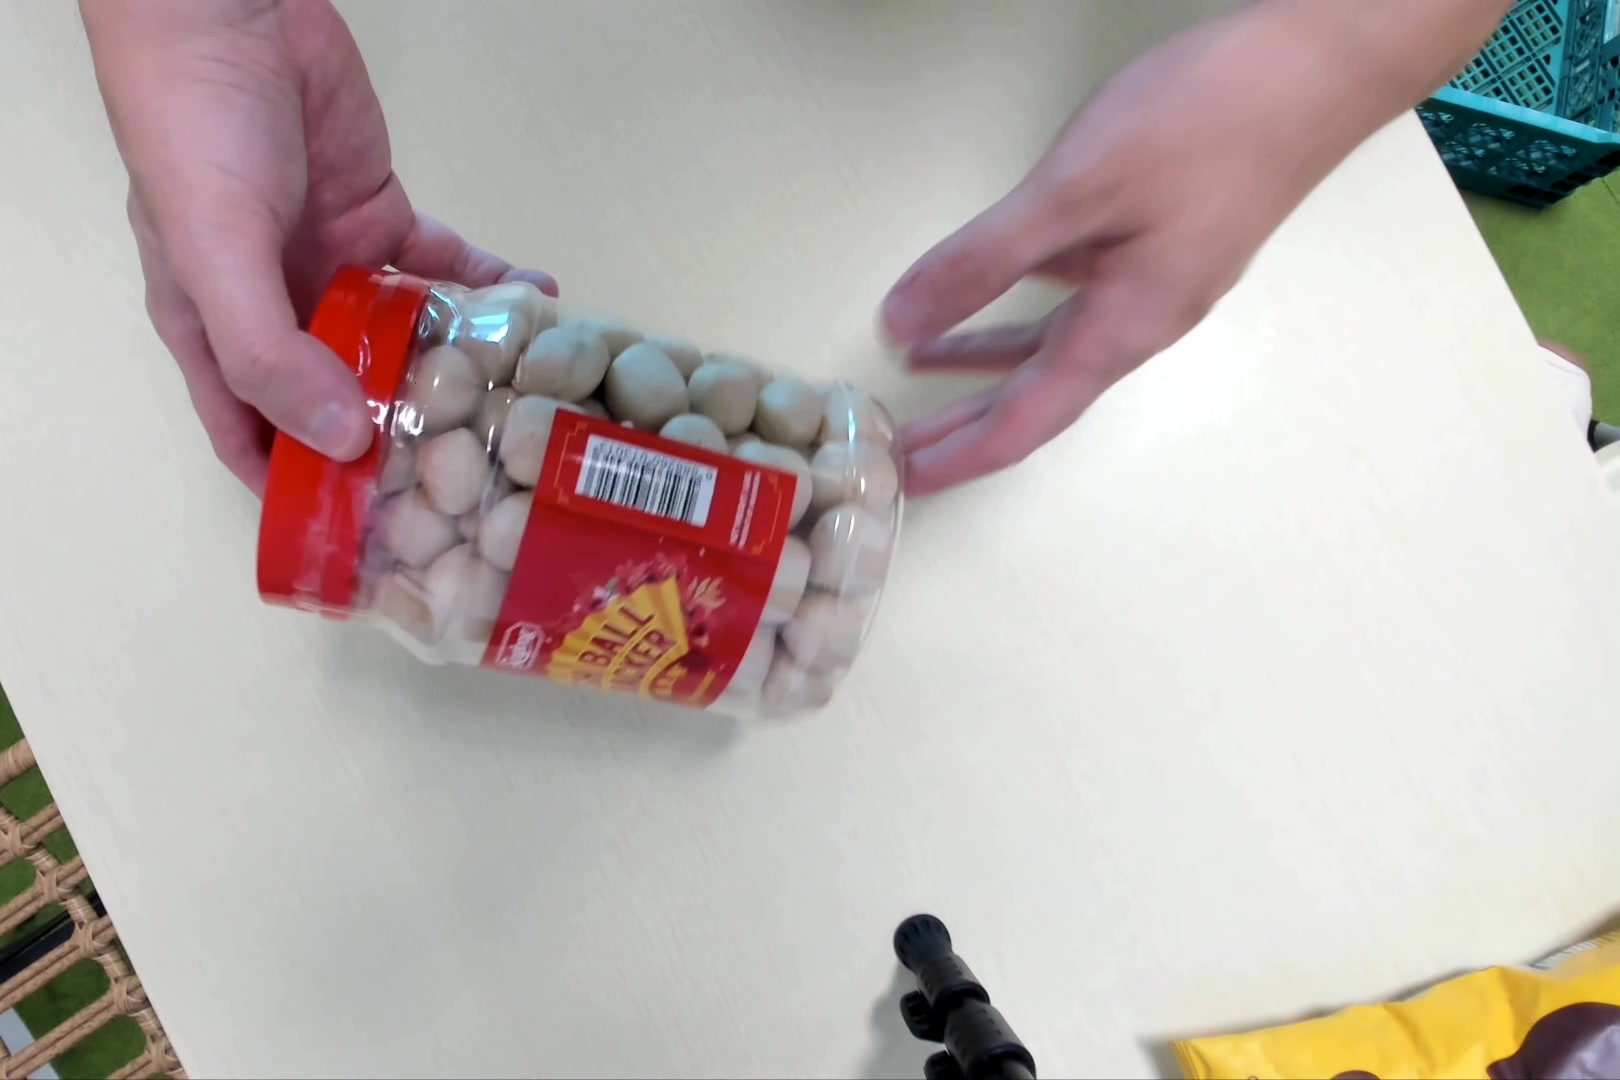PotatoChipsKeropok_100-199g_NonHalal_NonHealthy: (251, 262, 904, 724)
